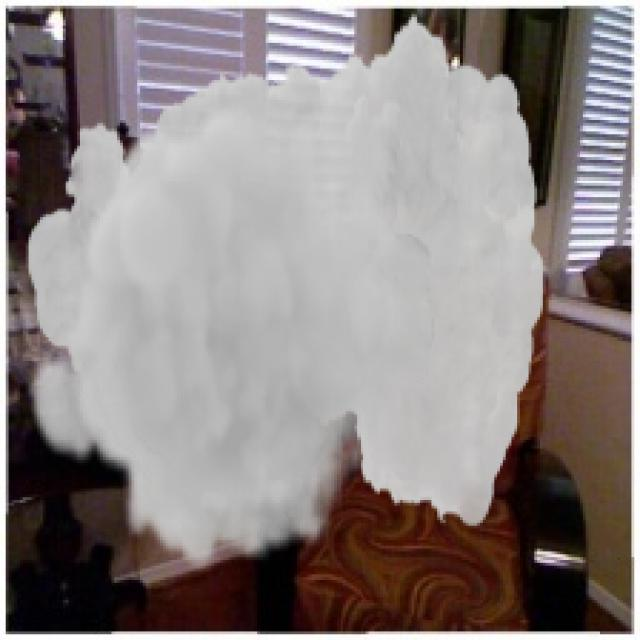smoke: (26, 11, 546, 572)
